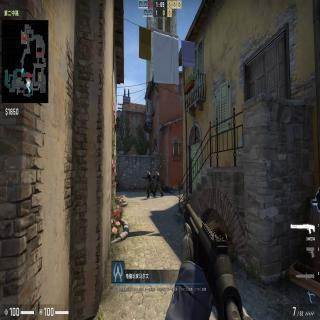T-Body: (153, 170, 164, 198), (145, 169, 154, 197)
T-Head: (155, 170, 158, 174), (146, 170, 150, 173)
